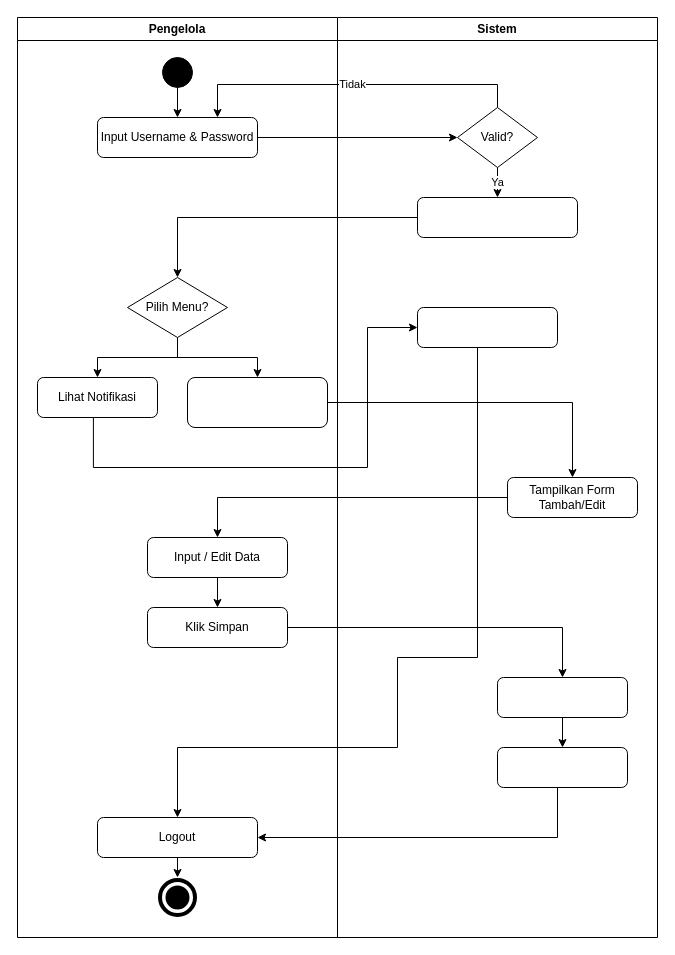
Image size: 675x955. Some labels were removed from this diagram. Each missing label, with the centre of its shape:
"Kelola Otomatisasi (Jadwal/Sensor/Robot)" belongs at point 257,402.
"Tampilkan Dashboard" belongs at point 497,217.
"Tampilkan Data Notifikasi" belongs at point 487,327.
"Tampilkan Pesan Sukses" belongs at point 562,767.
"Validasi & Update DB" belongs at point 562,697.
